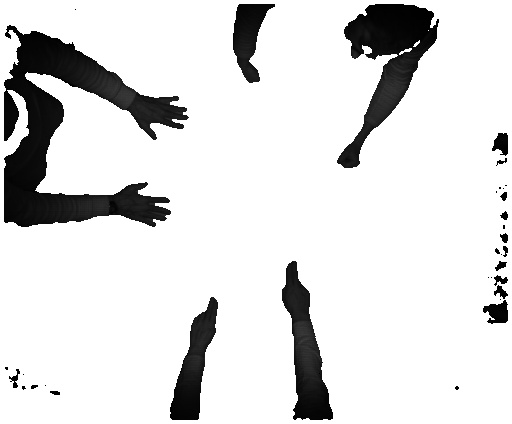fist: (336, 144, 366, 167), (236, 64, 263, 87)
hand: (116, 180, 175, 231), (136, 94, 191, 143), (184, 296, 223, 352), (280, 256, 311, 315)
